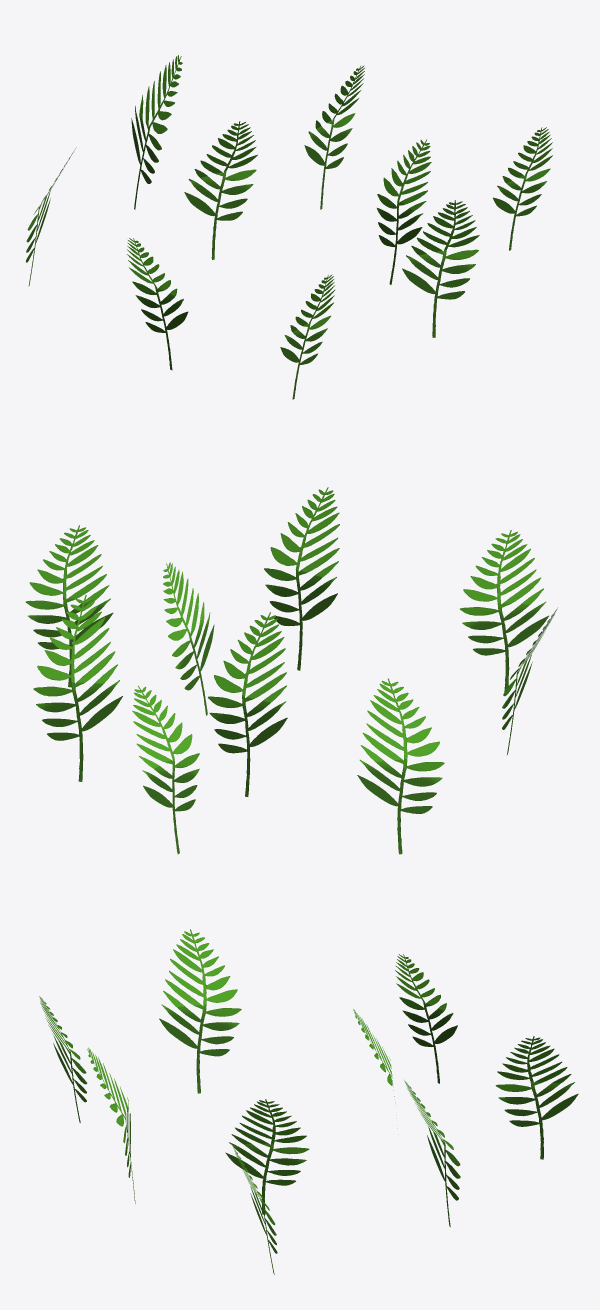
File: FernSmall.fbx
The picture shows the model from 3 angles, top to bottom: view 1: azimuth 30°, elevation 25°; view 2: azimuth 150°, elevation 25°; view 3: azimuth 270°, elevation 25°; orthographic projection. The views are drawn at different scales.
Parts seen in each view (by area): view 1: FernSmall1; view 2: FernSmall1; view 3: FernSmall1.
Part boxes in pixels (x1,y1,x2,y2): FernSmall1: [26, 55, 552, 399]; FernSmall1: [25, 487, 557, 854]; FernSmall1: [39, 929, 578, 1274].
Bounding box in the file's own units: 0.8679 × 0.3 × 0.8772.
